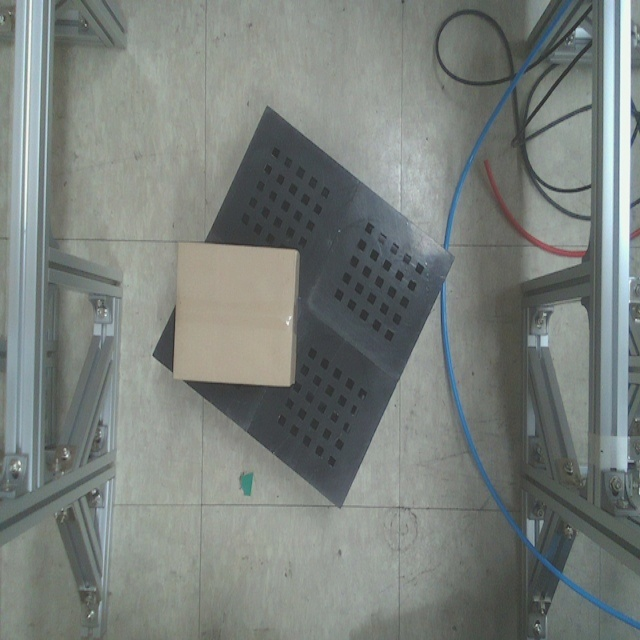box: (171, 239, 299, 388)
pallet: (151, 105, 456, 508)
